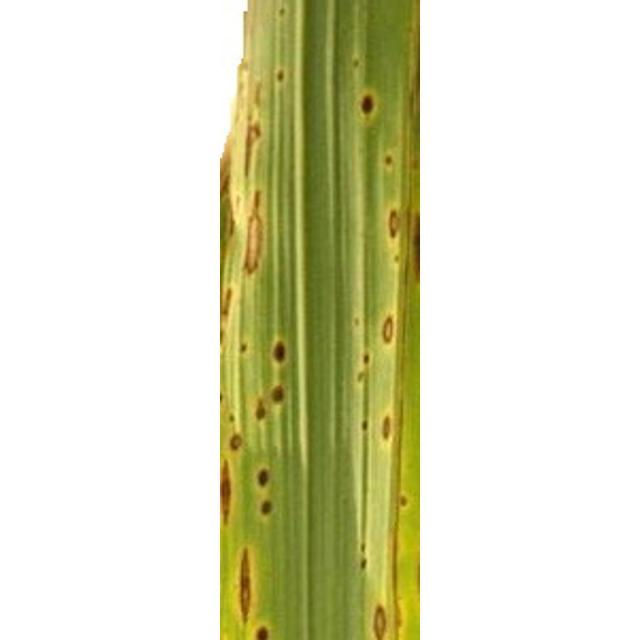Brown spot: (243, 186, 283, 277), (228, 534, 256, 624), (384, 182, 412, 252), (350, 314, 370, 391), (254, 456, 274, 518), (351, 91, 392, 121), (240, 122, 264, 172), (345, 531, 372, 573), (366, 597, 392, 640), (216, 453, 233, 513), (348, 49, 376, 81), (379, 300, 398, 343), (266, 57, 286, 97), (391, 481, 414, 515), (225, 429, 254, 453), (252, 399, 282, 422), (243, 621, 279, 640), (376, 409, 394, 444), (270, 339, 293, 366), (270, 385, 298, 405), (272, 4, 295, 28), (234, 334, 251, 362), (360, 415, 376, 435), (384, 149, 398, 168)
